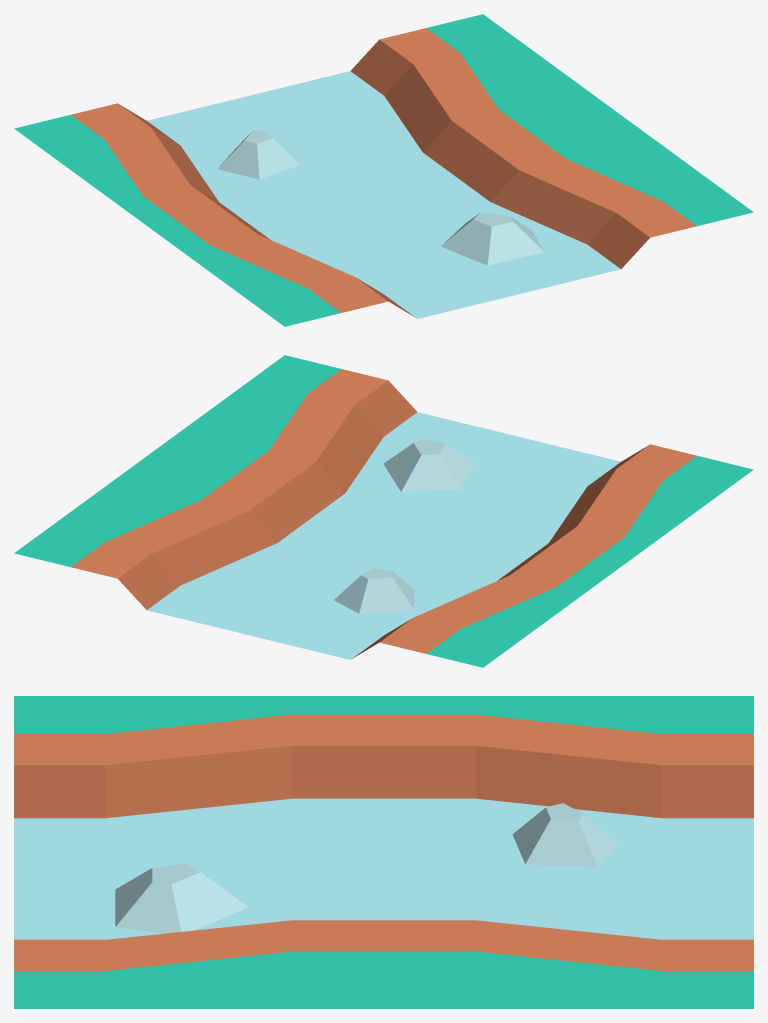
The model's file is ground_riverRocks.dae.
3 views of the same model, one above another, from view 1: azimuth 30°, elevation 25°; view 2: azimuth 150°, elevation 25°; view 3: azimuth 270°, elevation 25° (orthographic). The views are drawn at different scales.
Visible parts, largest first — view 1: ground_riverRocks; view 2: ground_riverRocks; view 3: ground_riverRocks.
Part boxes in pixels (x1,y1,x2,y2): ground_riverRocks: (14, 14, 753, 326); ground_riverRocks: (14, 355, 753, 667); ground_riverRocks: (14, 696, 753, 1008).
Size of the model in its own units: 1 by 0.05 by 1.
